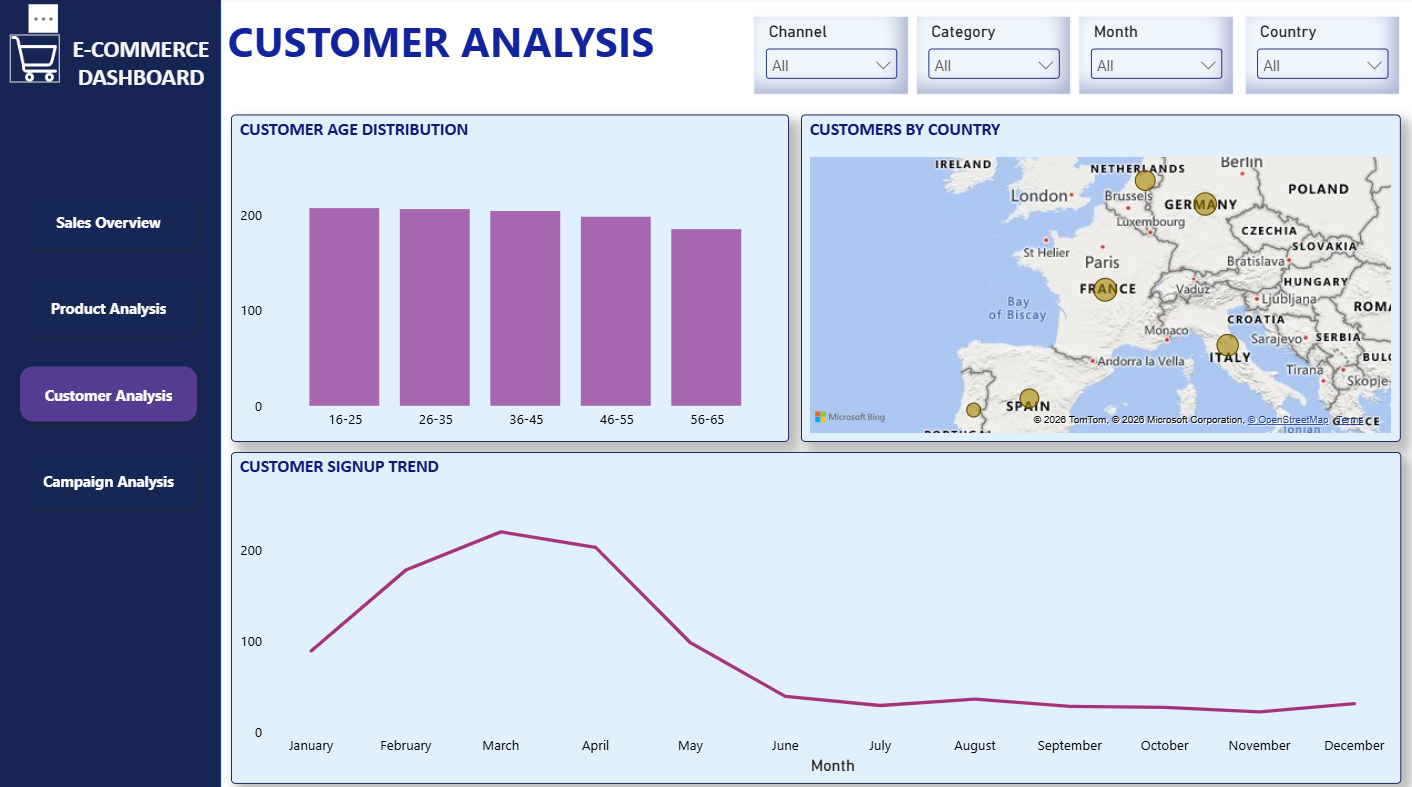

What the dashboard file says about the page in this screenshot:
{"tool":"powerbi","page":{"name":"Customer Analysis","canvas":[1280,720],"ordinal":2},"visuals":[{"type":"shape","box":[0,0,203.5,719.8],"z":0,"group":"g1"},{"type":"columnChart","title":"CUSTOMER AGE DISTRIBUTION","fields":{"Category":["Store Customers.Age Range"],"Y":["KPIMeasures.Total Customers"]},"box":[212.2,105.5,503,295.4],"z":0},{"type":"slicer","fields":{"Values":["Store Products.Category"]},"box":[828.8,17.4,140.2,71],"z":1000,"group":"g3"},{"type":"map","title":"CUSTOMERS BY COUNTRY","fields":{"Category":["Store Customers.Country"],"Size":["KPIMeasures.Total Customers"]},"box":[725.7,105.5,540.5,295.4],"z":1000},{"type":"pageNavigator","box":[12.4,167.9,178.1,302.1],"z":1000,"group":"g1"},{"type":"textbox","title":"E-COMMERCE DASHBOARD","box":[57,33.7,146.5,54.7],"z":2000,"group":"g1"},{"type":"lineChart","title":"CUSTOMER SIGNUP TREND","fields":{"Y":["KPIMeasures.Total Customers"],"Category":["Store Customers.Signup Date.Variation.Date Hierarchy.Month"]},"box":[212.2,410.3,1055.1,299],"z":2000},{"type":"slicer","fields":{"Values":["Store Sales.Country"]},"box":[1126.1,17.4,140.2,71],"z":3000,"group":"g3"},{"type":"image","box":[12.8,33.7,44.2,44.2],"z":3000,"group":"g1"},{"type":"slicer","fields":{"Values":["Store Sales Item.Month"]},"box":[975.9,17.4,140.2,71],"z":3250,"group":"g3"},{"type":"slicer","fields":{"Values":["Store Sales.Channel"]},"box":[682.6,17.4,140.2,71],"z":3500,"group":"g3"},{"type":"group","id":"g1","title":"Group 1","box":[0,0,204,720.2],"z":4000},{"type":"textbox","box":[204,9.4,404.5,68],"z":5000},{"type":"group","id":"g2","title":"Group 3","box":[682.6,17.4,583.7,70.9],"z":6000},{"type":"group","id":"g3","title":"Group 2","box":[682.6,17.4,583.7,71],"z":10001,"group":"g4"},{"type":"group","id":"g4","title":"Group 4","box":[682.6,17.4,583.7,71],"z":11000,"group":"g2"}]}

Visuals, with their boxes on the page's 1280x720 design canvas (x1, y1, x2, y2). These are canvas units, not pixel positions in the 1412x787 screenshot, which may show the page scaled, cropped or inside an application window:
shape: <box>0,0,204,720</box>
"CUSTOMER AGE DISTRIBUTION" columnChart: <box>212,106,715,401</box>
slicer - Store Products.Category: <box>829,17,969,88</box>
"CUSTOMERS BY COUNTRY" map: <box>726,106,1266,401</box>
pageNavigator: <box>12,168,190,470</box>
"E-COMMERCE DASHBOARD" textbox: <box>57,34,204,88</box>
"CUSTOMER SIGNUP TREND" lineChart: <box>212,410,1267,709</box>
slicer - Store Sales.Country: <box>1126,17,1266,88</box>
image: <box>13,34,57,78</box>
slicer - Store Sales Item.Month: <box>976,17,1116,88</box>
slicer - Store Sales.Channel: <box>683,17,823,88</box>
"Group 1" group: <box>0,0,204,720</box>
textbox: <box>204,9,608,77</box>
"Group 3" group: <box>683,17,1266,88</box>
"Group 2" group: <box>683,17,1266,88</box>
"Group 4" group: <box>683,17,1266,88</box>
